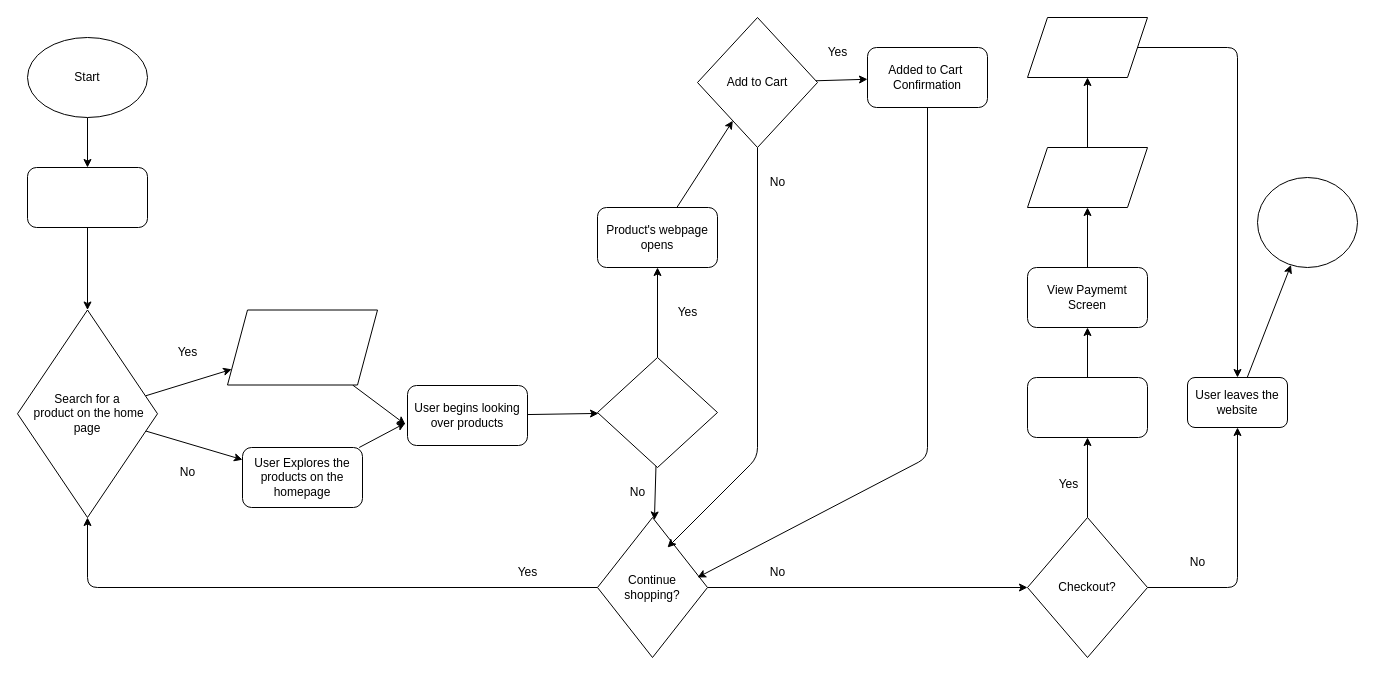
This 1375x675 diagram has some shape labels left out. Each missing label, with the box of its shape:
Order confirmation screen and email sent to user: (1026, 16, 1148, 78)
User Enters the Website: (26, 166, 148, 228)
User inputs their payment information: (1026, 146, 1148, 208)
User provides input for search: (226, 309, 378, 385)
View a specific product: (596, 356, 718, 468)
View Cart Screen: (1026, 376, 1148, 438)
